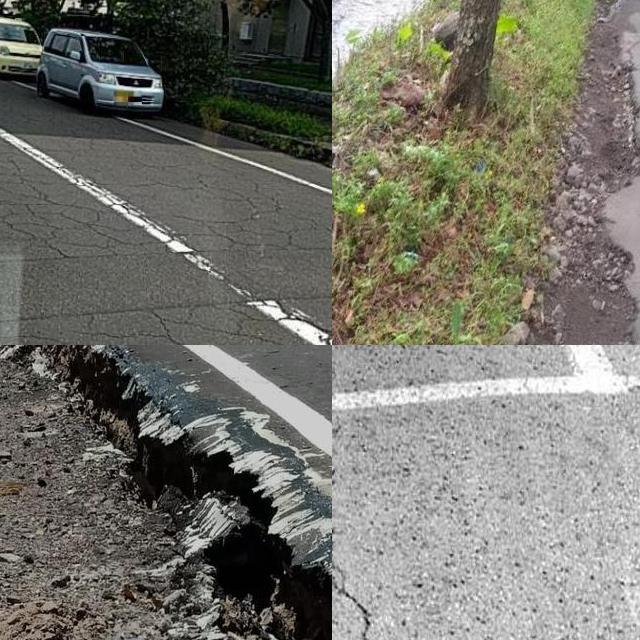Pinggir: (0, 345, 332, 640), (540, 0, 640, 345)
Retak Buaya: (0, 133, 166, 259)
